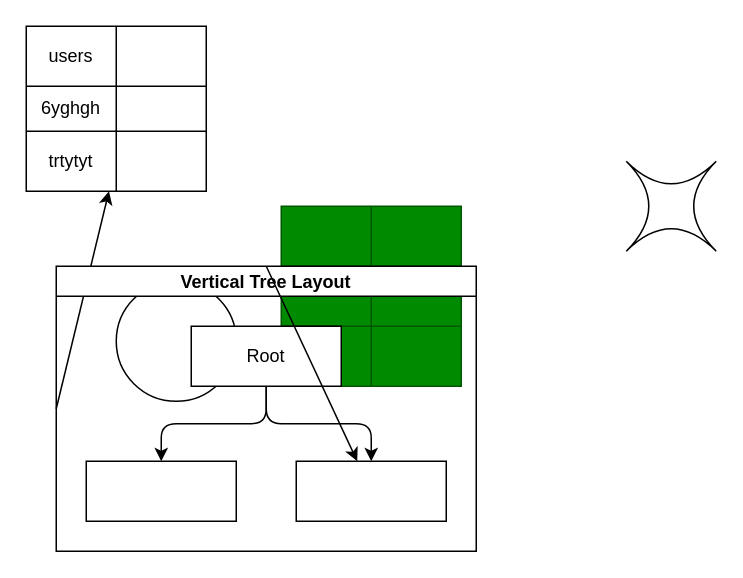
This 743x578 diagram has some shape labels left out. The shapes that lost their labels are listed below. From the top down, each one's centre as x and y in pixels, then its label:
the point at 160,490: Child 1
the point at 370,490: Child 2
